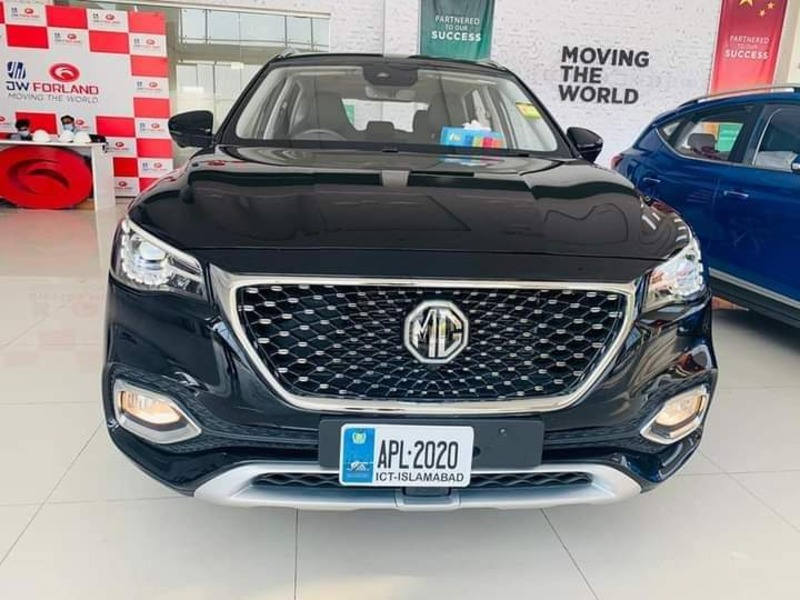License Plate: (336, 420, 474, 495)
